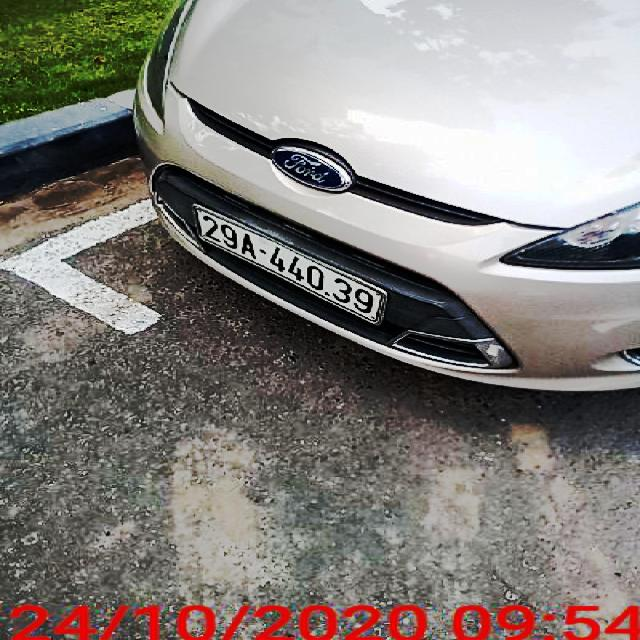license_plate: (193, 207, 393, 330)
